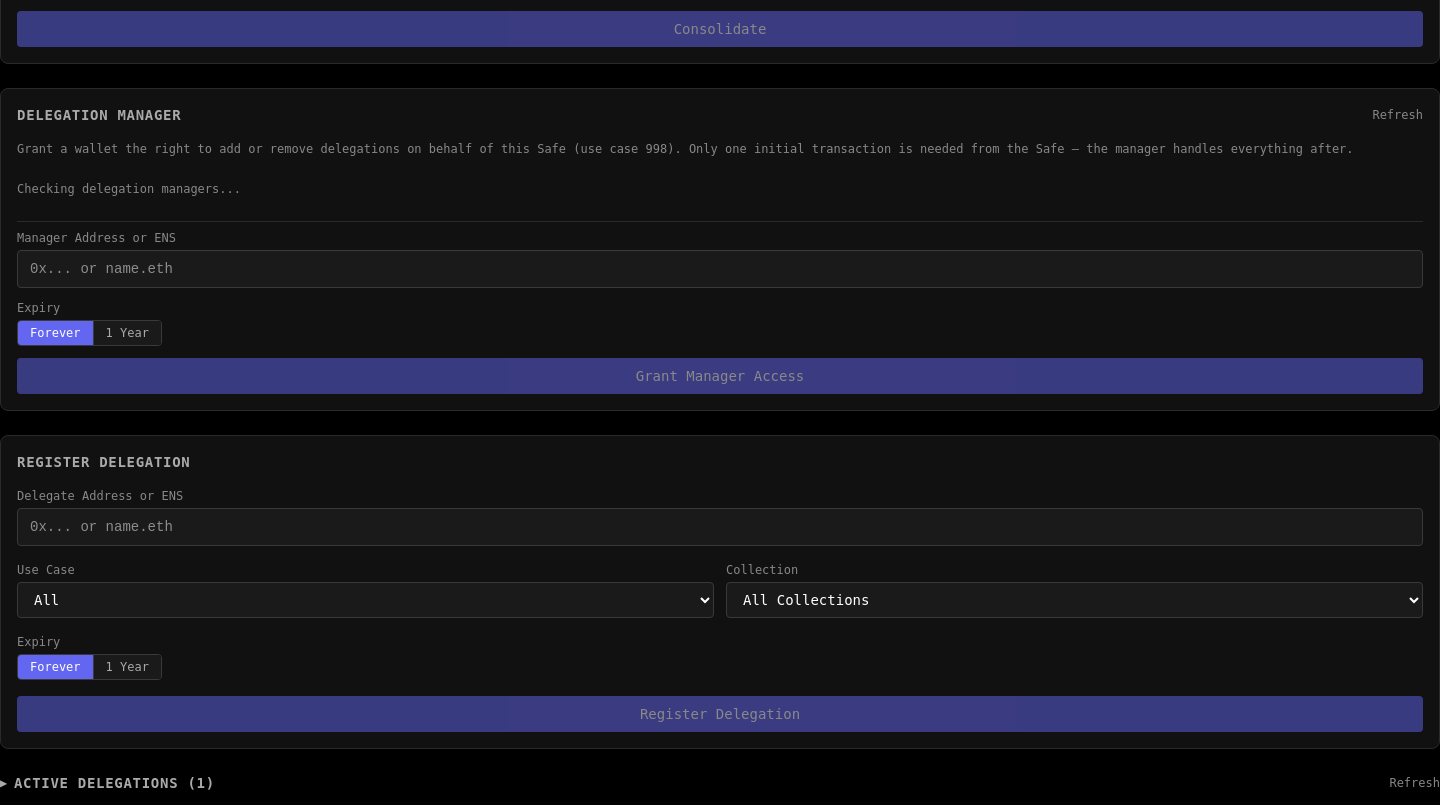
Test: DelegationsTab chain ID guard › blocks revoke and shows error on wrong chain
(page scrolled)
// Expand the delegations list
What coordinates should you click on to do the following:
click the button "▶ Active Delegations (1)"
I would click on:
 (107, 783)
Its box is [0,773,215,793].
(page scrolled)
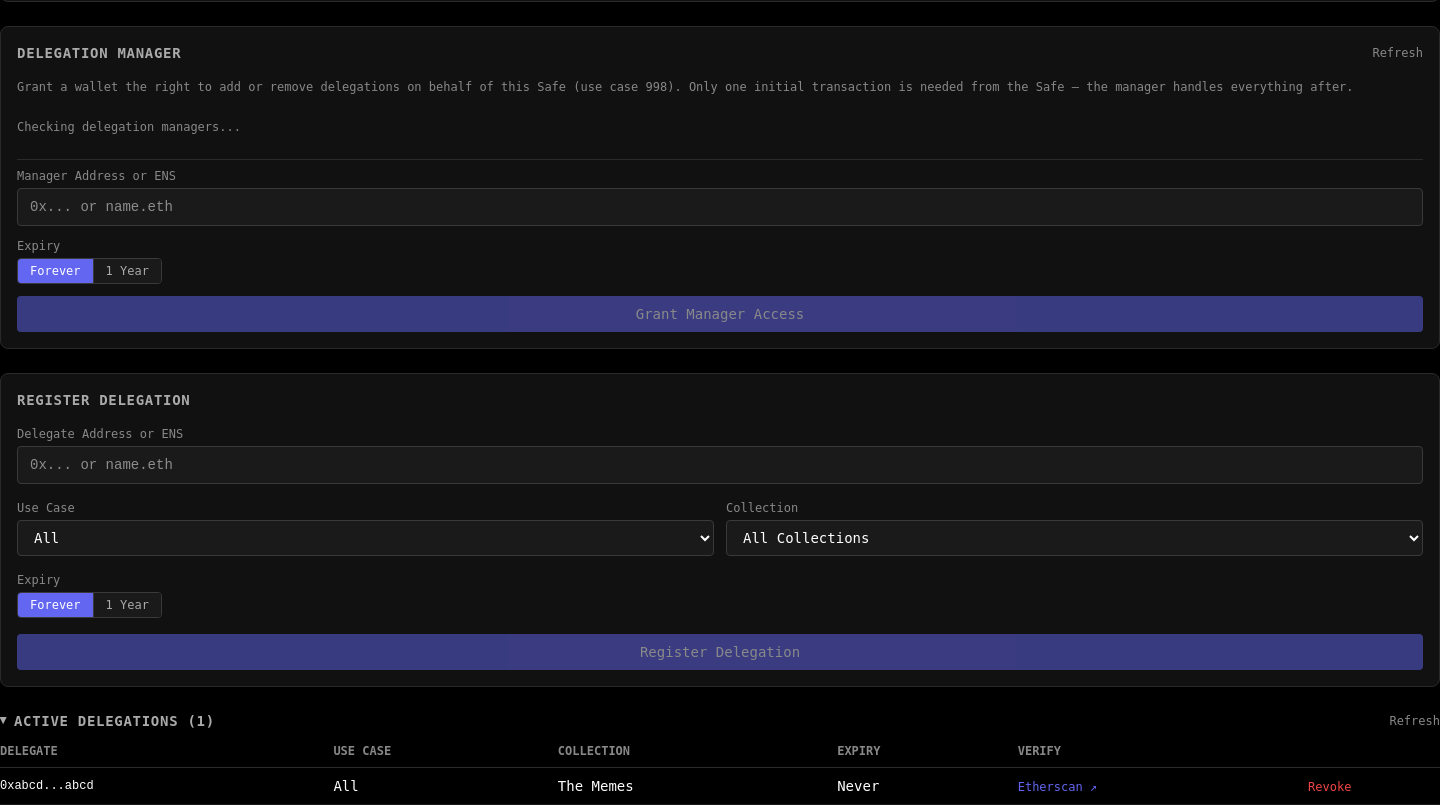
// Click Revoke
What coordinates should you click on to do the following:
click the button "Revoke"
I would click on:
 (1330, 787)
Its box is [1308,779,1352,795].
(page scrolled)
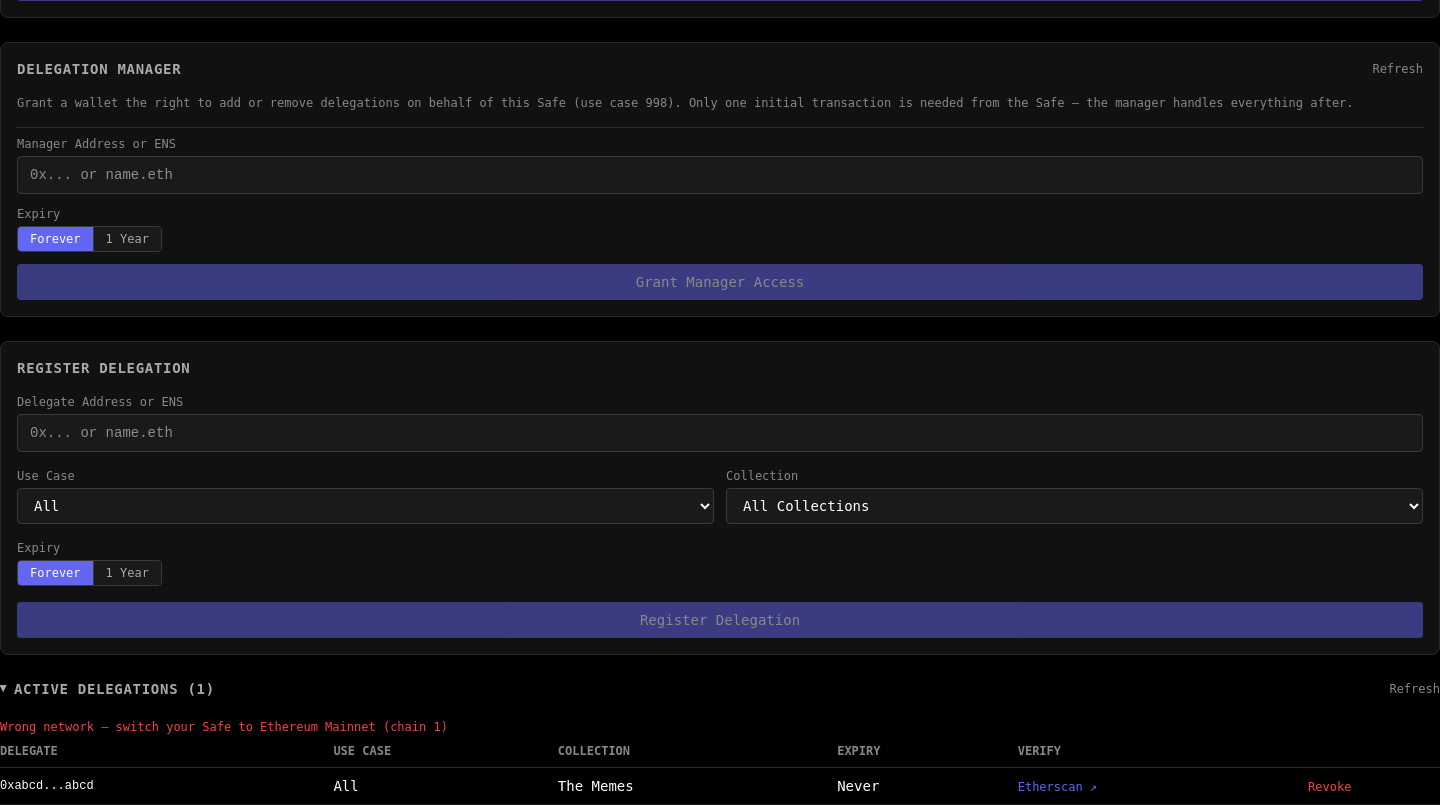
Now the text "Wrong network — switch your Safe to Ethereum Mainnet (chain 1)" is shown, box [0,720,448,734]
